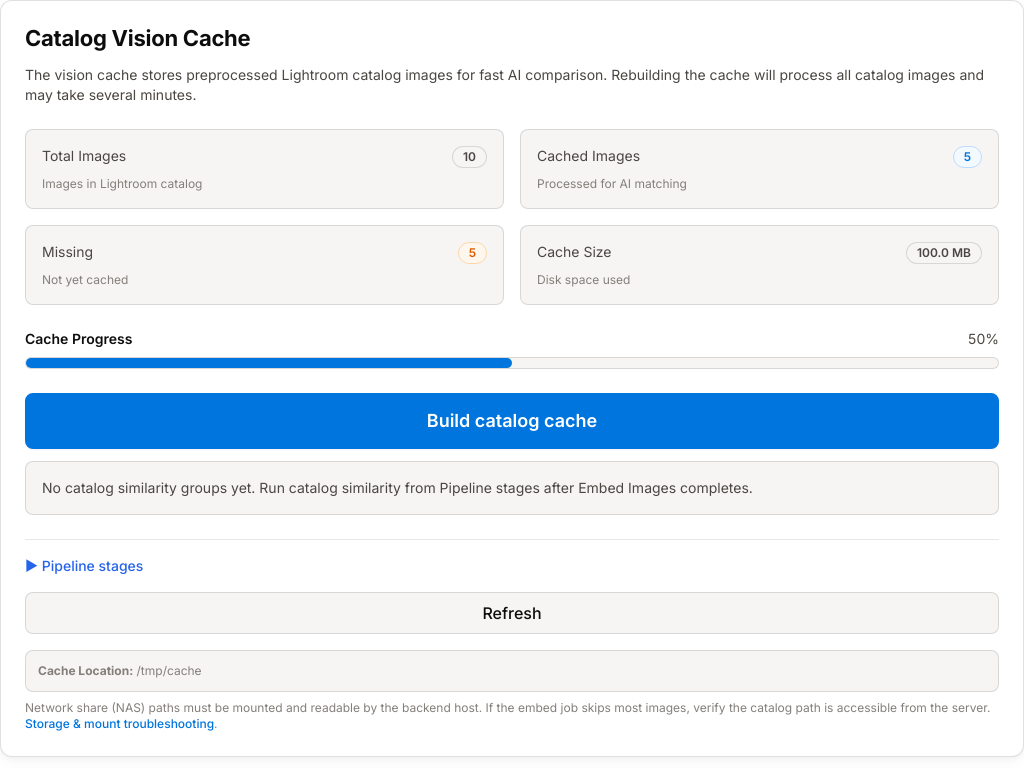
Test: CatalogCacheTab › renders helper copy and Never run badge when no pipeline jobs exist
The image size is (1024, 768).
Click the button "▶ Pipeline stages": coordinates (84, 566) [25,556,143,576]
(page scrolled)
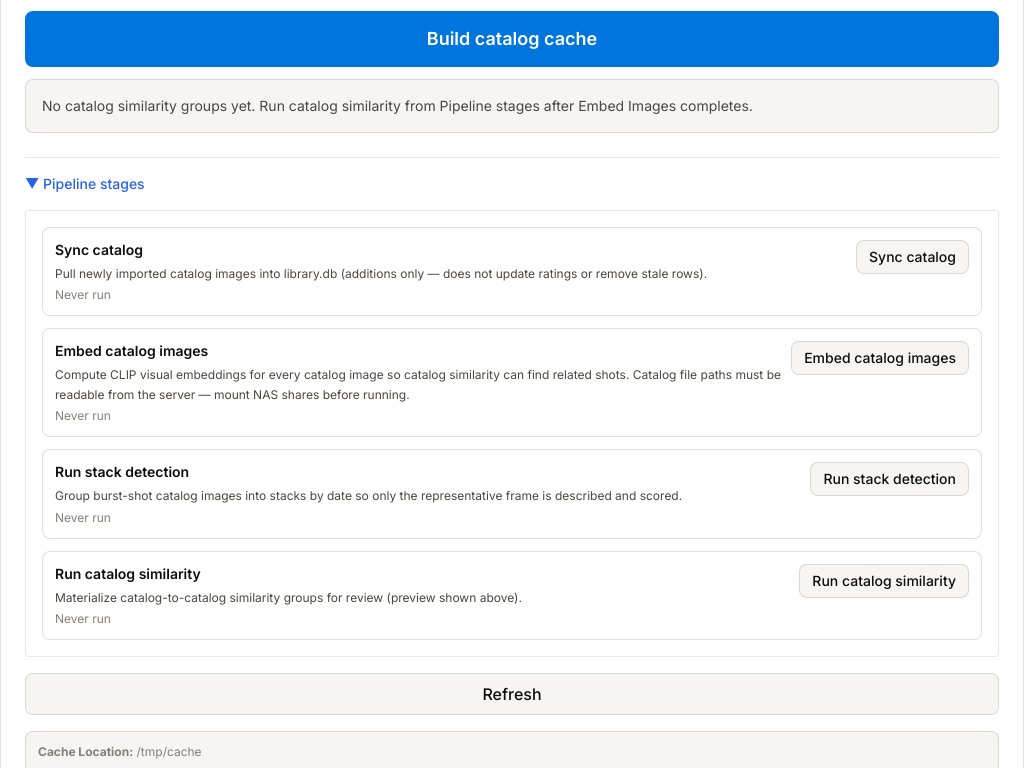
Now the text "Compute CLIP visual embeddings for every catalog image so catalog similarity can find related shots. Catalog file paths " is shown, box [55,367,781,402]
Now the text "Never run" is shown 4 times, box [55,287,111,302]; [55,408,111,423]; [55,510,111,525]; [55,611,111,626]
